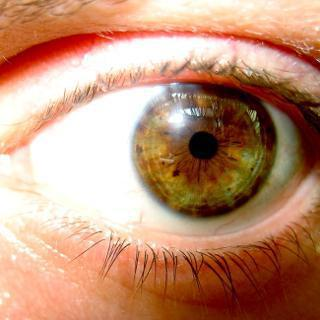iris: (130, 74, 274, 218)
